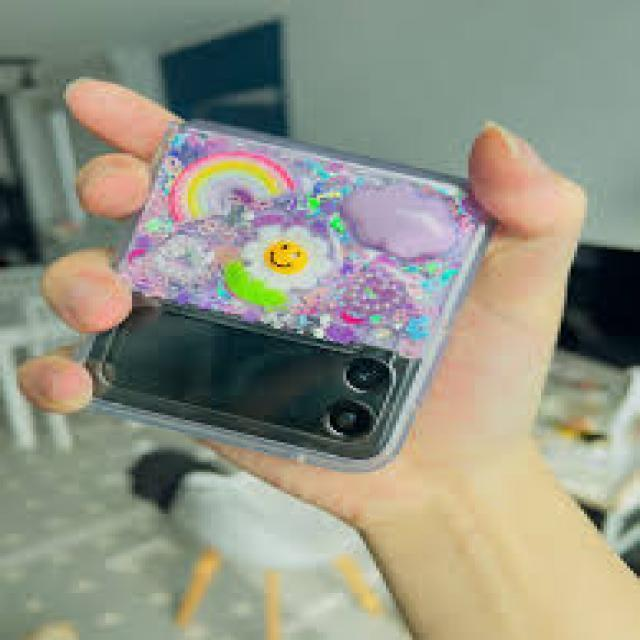phone: (92, 106, 474, 459)
